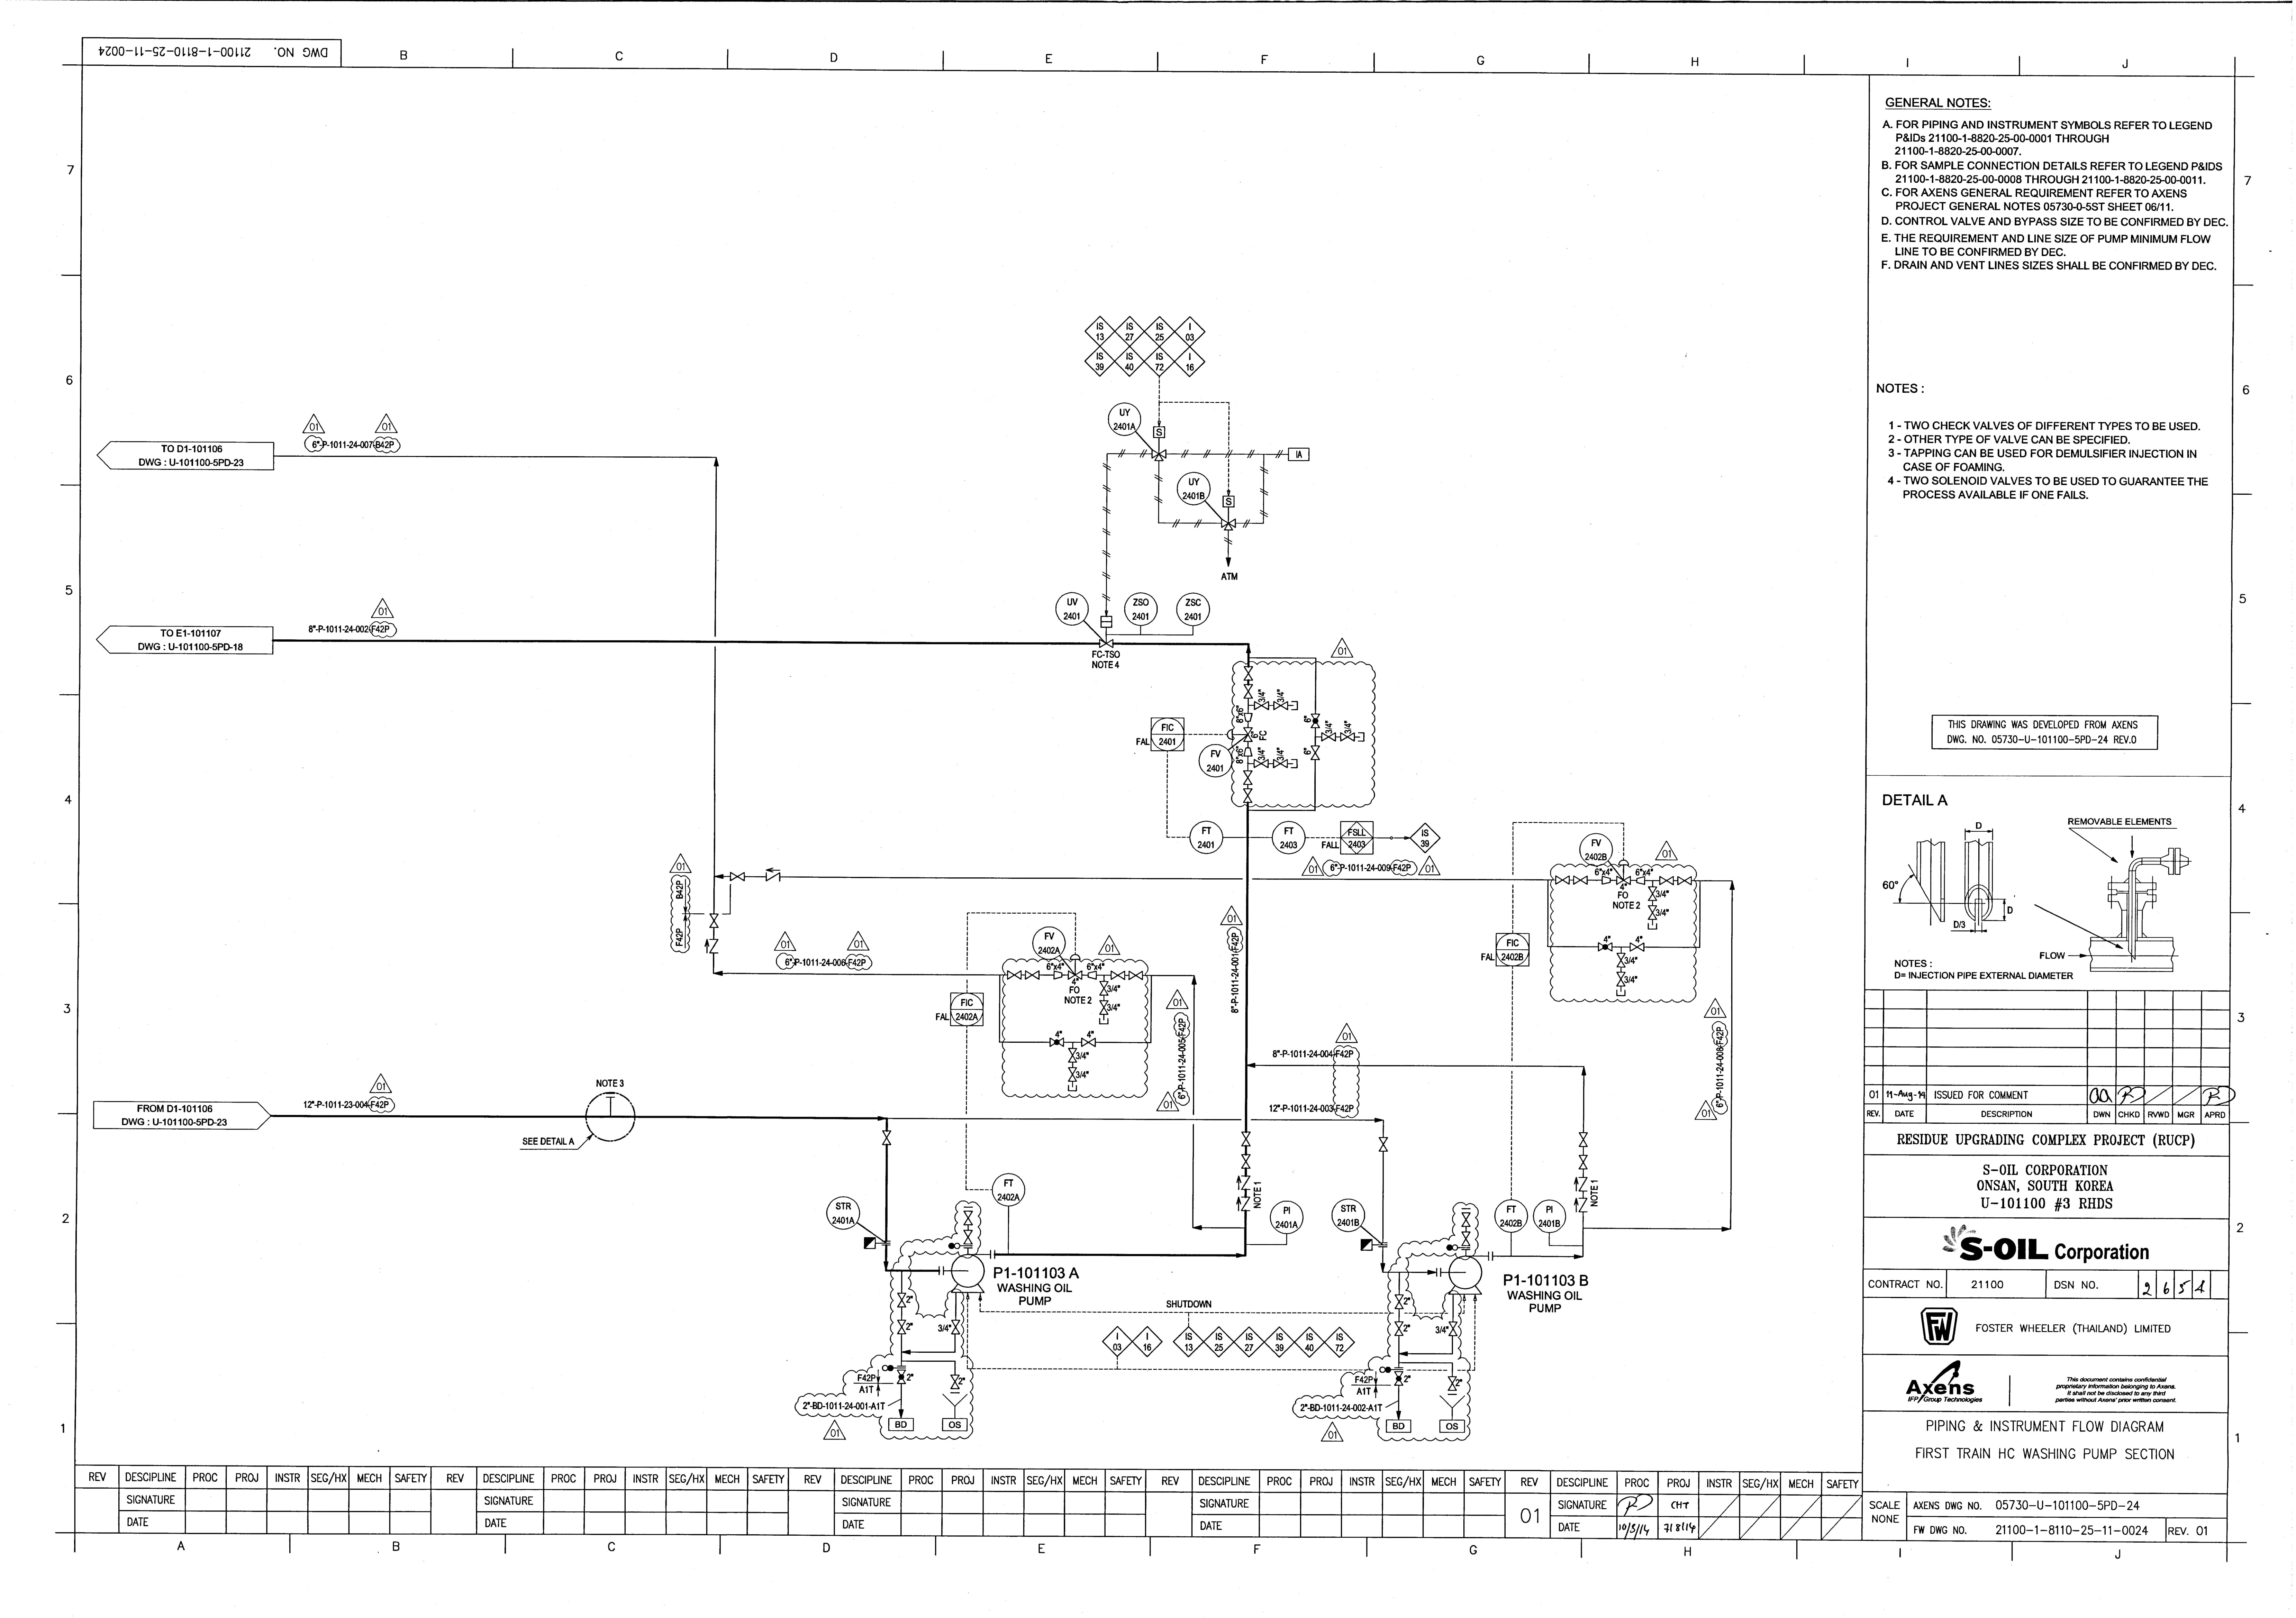NAS: (1359, 1236, 1391, 1254), (1445, 1291, 1462, 1313), (1447, 1289, 1461, 1306), (1445, 1243, 1462, 1254)
butterfly0: (1597, 940, 1615, 953), (1049, 1037, 1065, 1047)
butterfly90: (1310, 713, 1321, 728), (897, 1369, 907, 1385), (1394, 1371, 1403, 1387)
reduce0: (1053, 970, 1063, 981), (1601, 876, 1613, 884)
reduce180: (1636, 876, 1646, 886)
reduce270: (1243, 713, 1252, 723)
reduce90: (1243, 746, 1254, 758), (1088, 970, 1098, 981)
valvecontrol180: (1226, 725, 1254, 744)
valvecontrol90: (1615, 858, 1632, 886)
